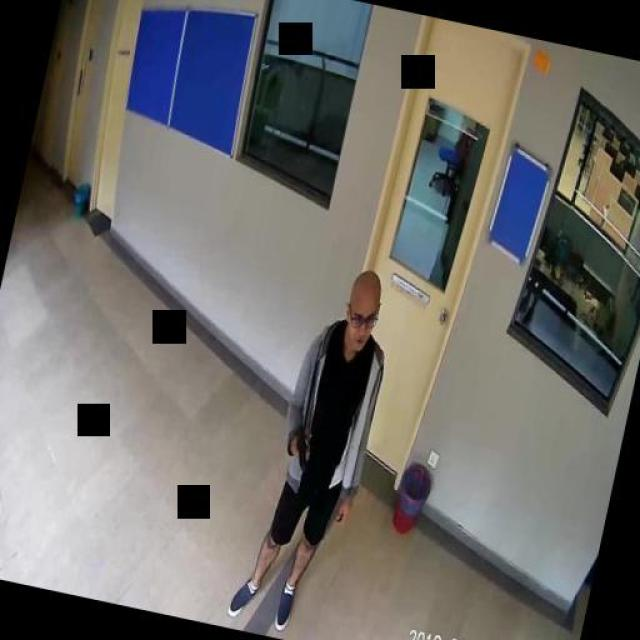gun: (285, 420, 315, 474)
